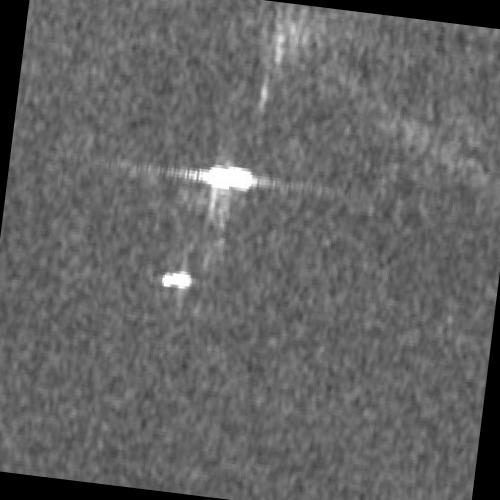ship: (201, 164, 256, 191), (160, 270, 193, 289)
